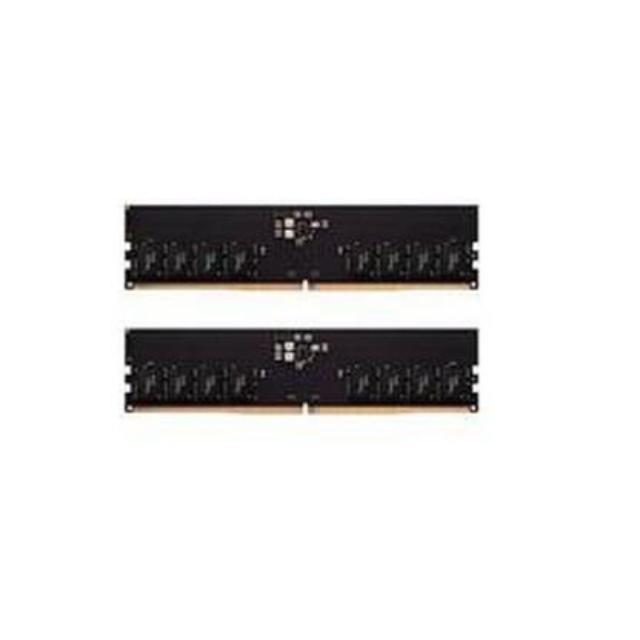RAM: (120, 317, 482, 423), (118, 200, 487, 298)
